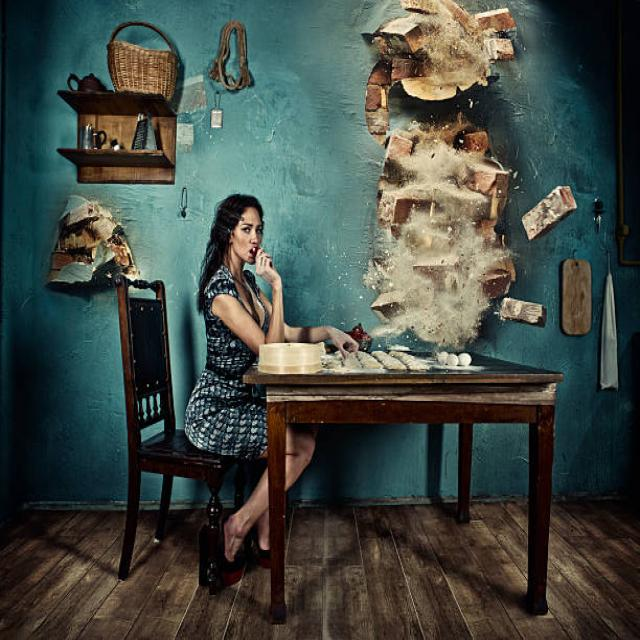sit: (189, 183, 322, 582)
